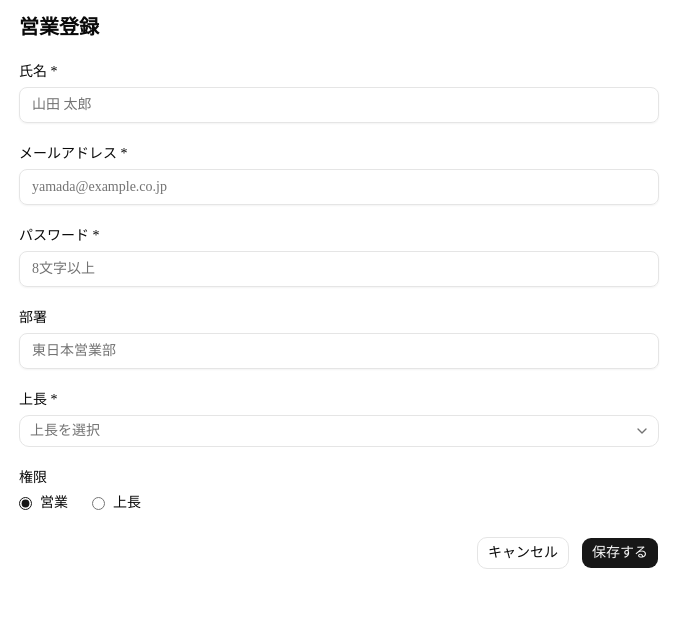
it: SCR-T-006-5: メールアドレス重複 › 既存のメールアドレスで登録するとエラーメッセージが表示される
Type "重複 太郎" into the field labelled "氏名 *". click: (339,105)
box: [19, 87, 659, 123]
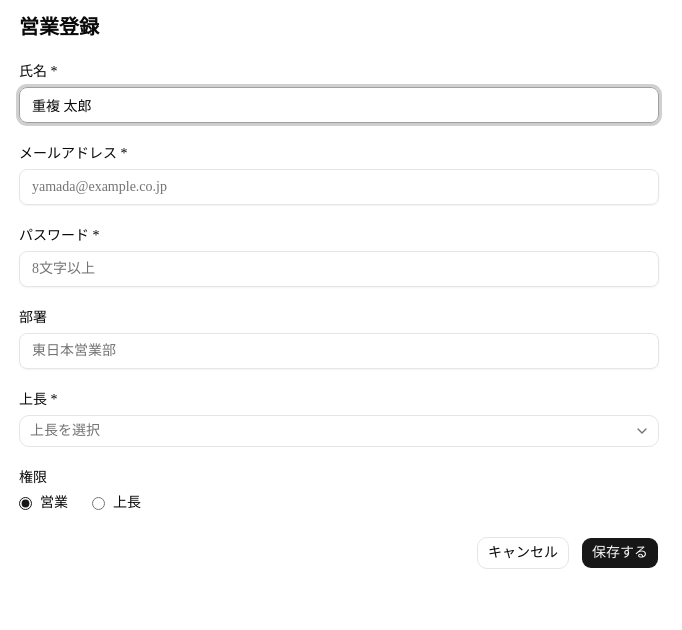
Type "yamada@test.com" into the field labelled "メールアドレス *". click: (339,187)
box: [19, 169, 659, 205]
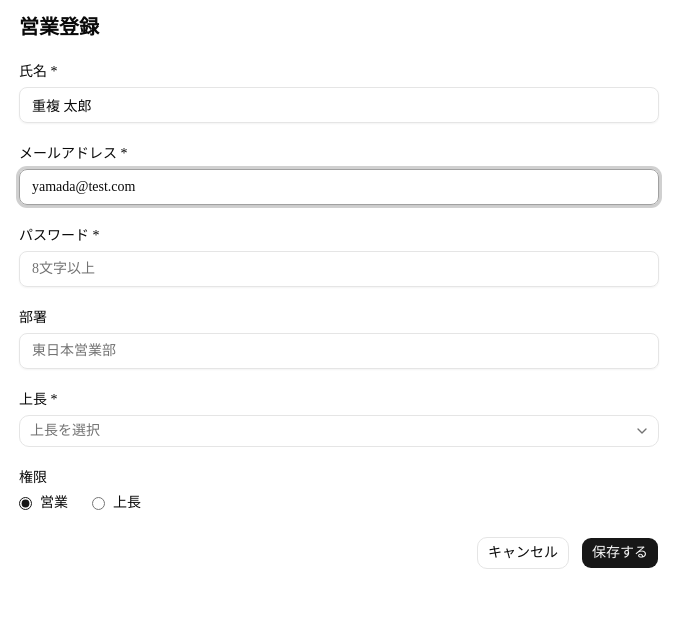
Type "Test1234!" into the password field labelled "パスワード *". click: (339,269)
box: [19, 251, 659, 287]
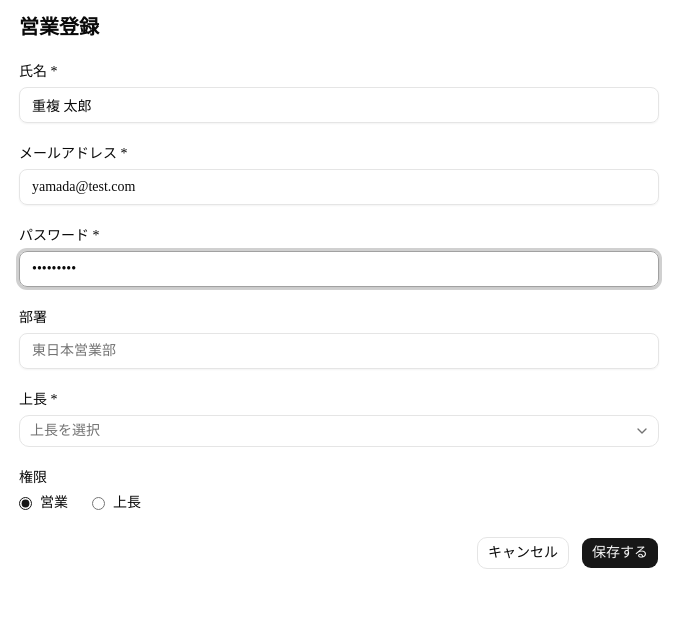
Click the dropdown. click: (65,430)
box: [19, 415, 659, 447]
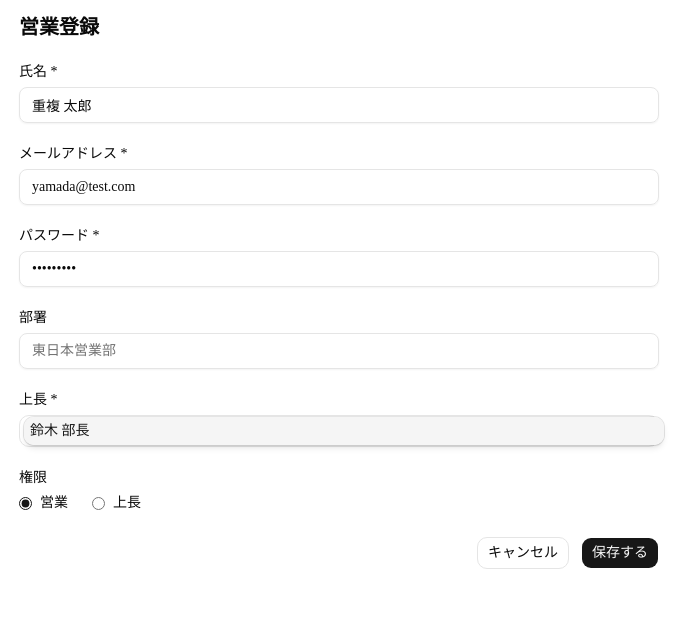
Click the option "鈴木 部長". click: (60,430)
box: [24, 417, 664, 445]
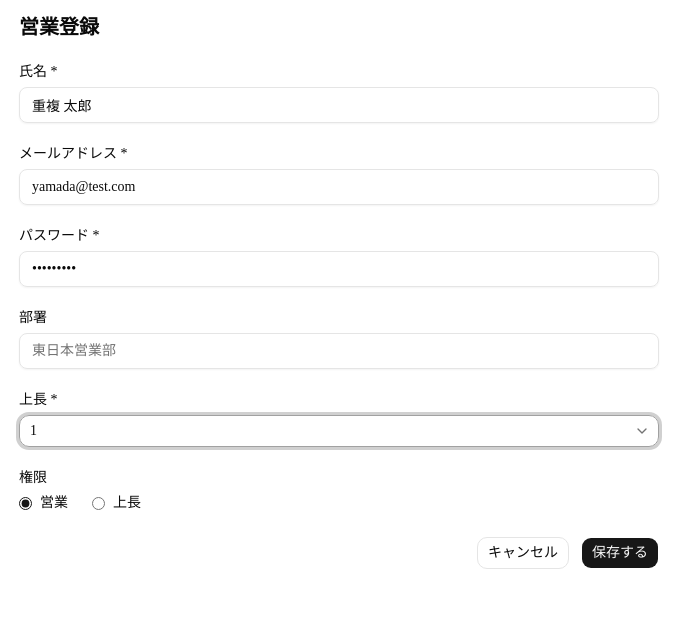
Click the button "保存する". click: (620,553)
box: [581, 537, 659, 569]
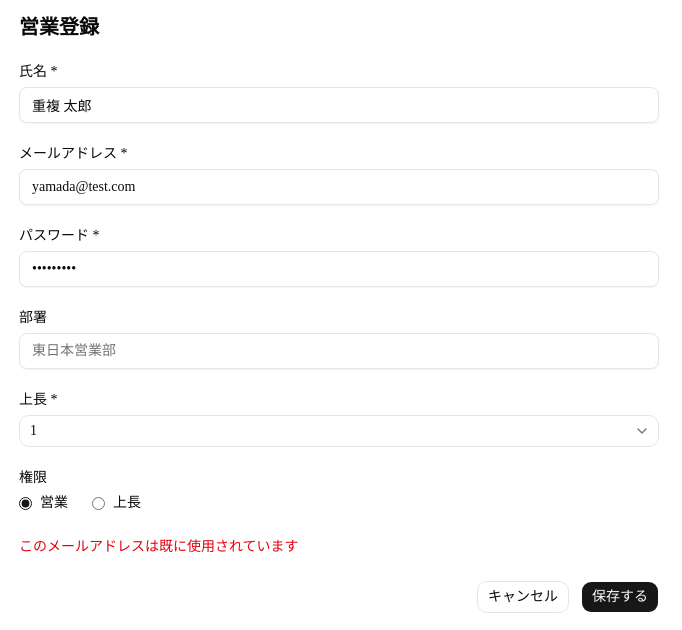
Now the text "このメールアドレスは既に使用されています" is shown, box [19, 539, 299, 554]
